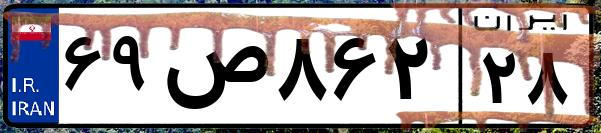2: (385, 28, 445, 110), (475, 38, 525, 113)
6: (330, 28, 385, 110), (57, 26, 110, 100)
8: (270, 28, 330, 110), (525, 38, 570, 115)
9: (110, 28, 158, 98)
ص: (158, 20, 270, 120)
